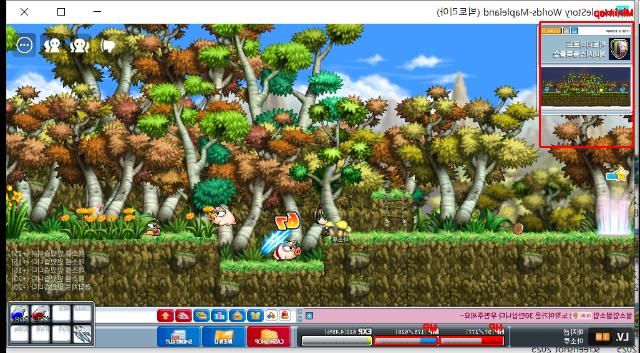me: (313, 203, 349, 244)
pig: (206, 202, 238, 230), (272, 239, 302, 261), (144, 220, 162, 234)
